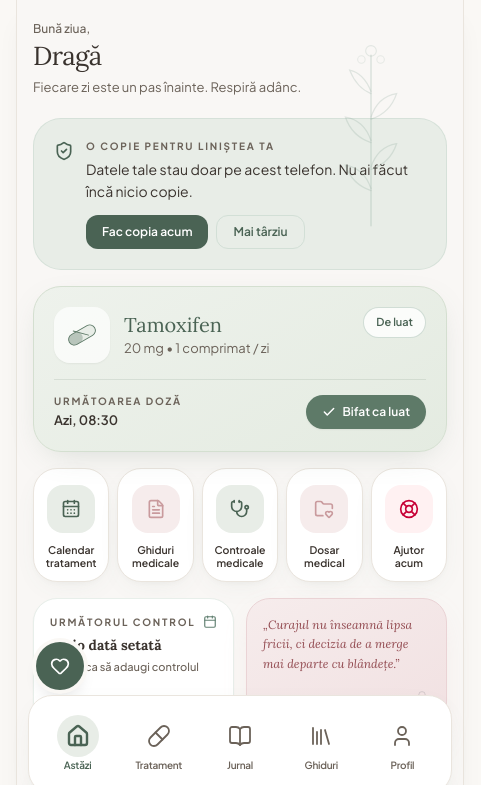
Test case: Pe ecran › „Mai târziu” ascunde cardul
Click the button "Mai târziu": [260, 232] box [216,215,305,249]
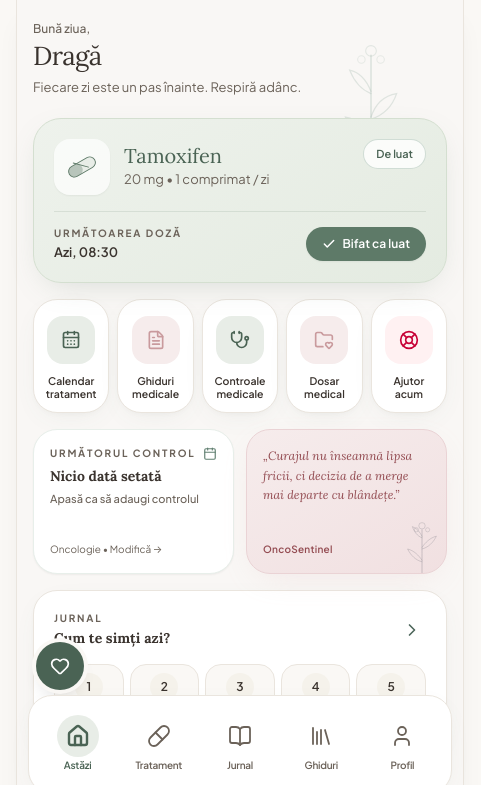
Now the heading "O copie pentru liniștea ta" is gone
